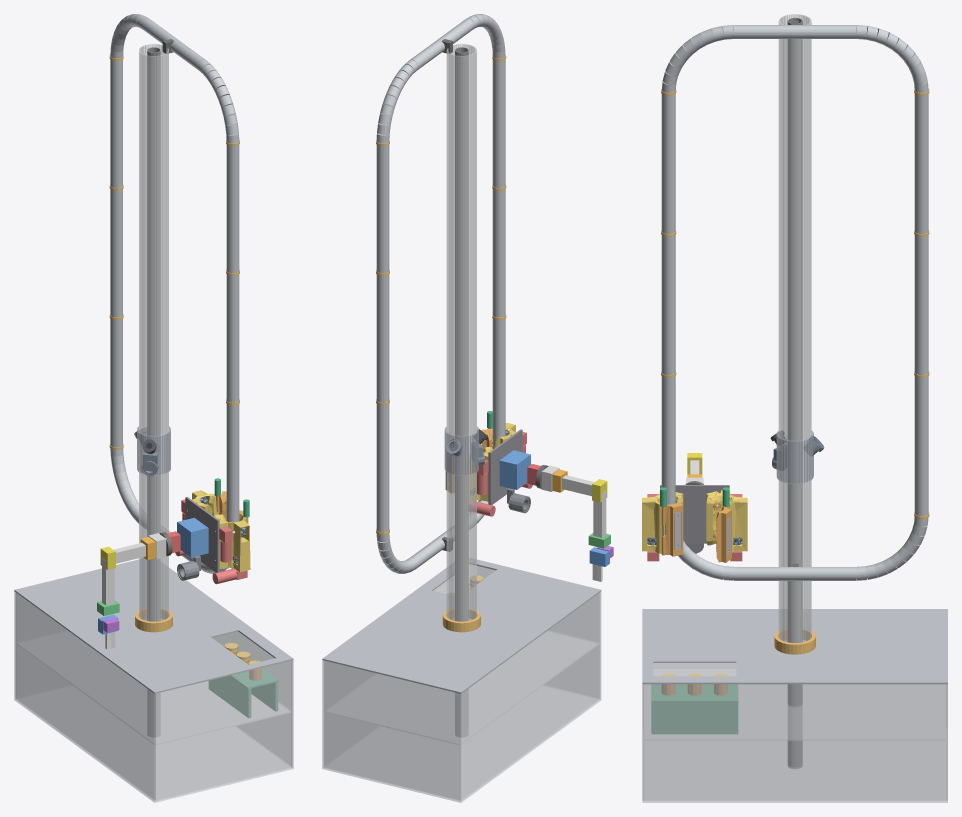
File: transplant-seedling-start-v8.glb
3 views of the same model, side by side, from view 1: azimuth 30°, elevation 25°; view 2: azimuth 150°, elevation 25°; view 3: azimuth 270°, elevation 25° (orthographic). The views are drawn at different scales.
Bounding box in the file's own units: 0.487 × 1.9 × 0.701.
